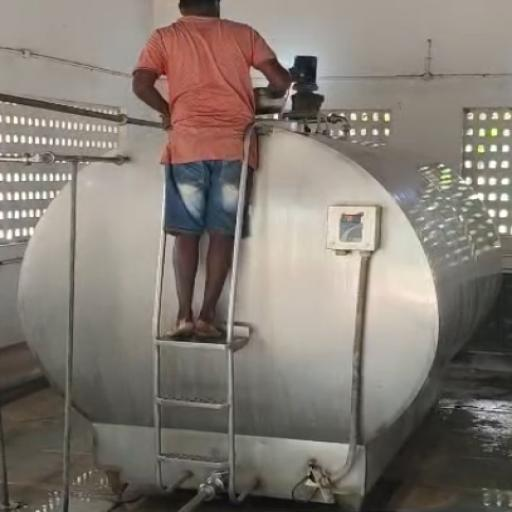silo: (14, 118, 506, 504)
vessel: (254, 87, 286, 115)
